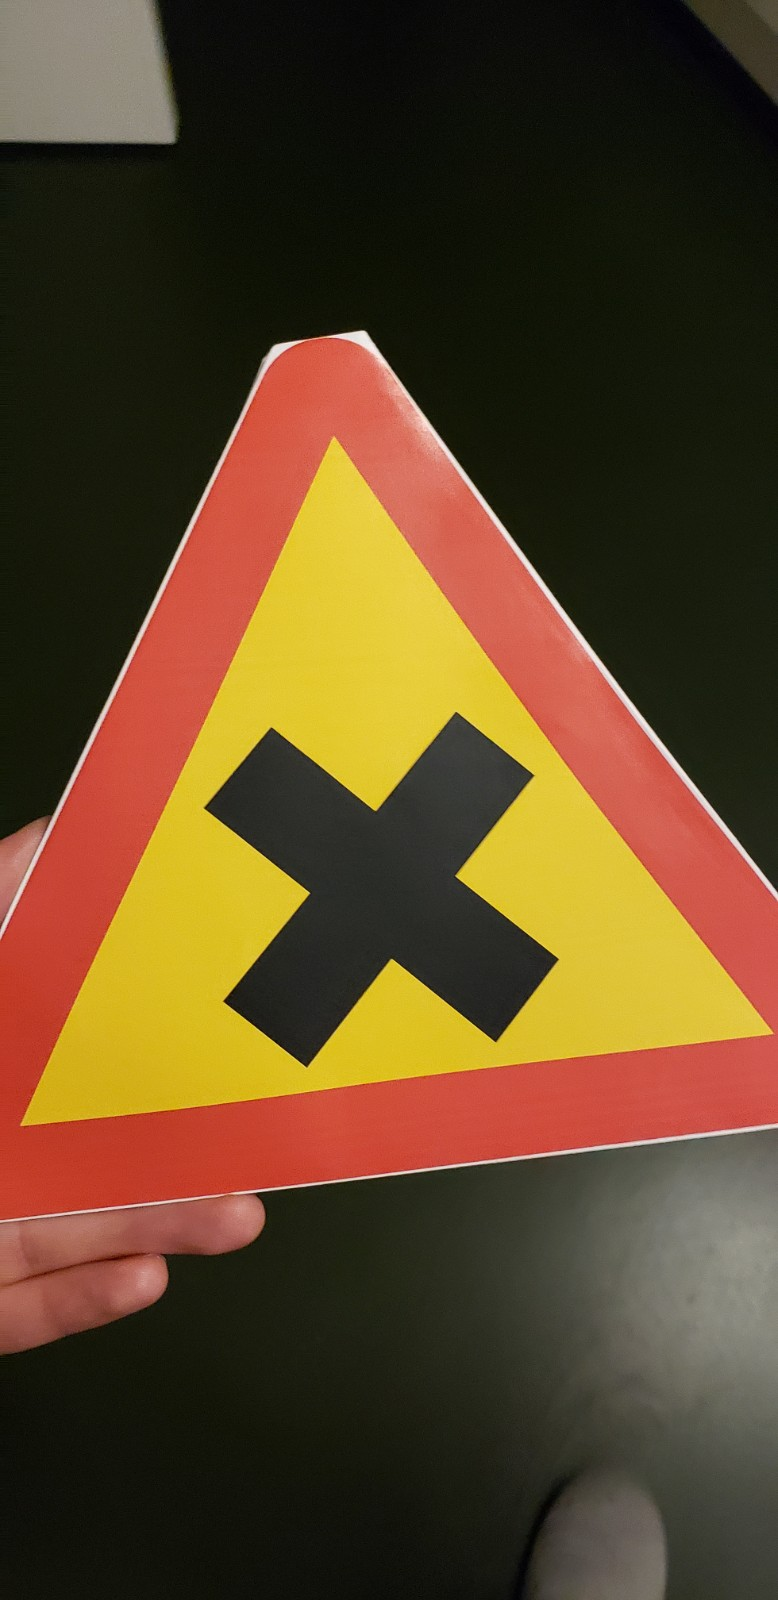junction: (35, 272, 778, 1242)
